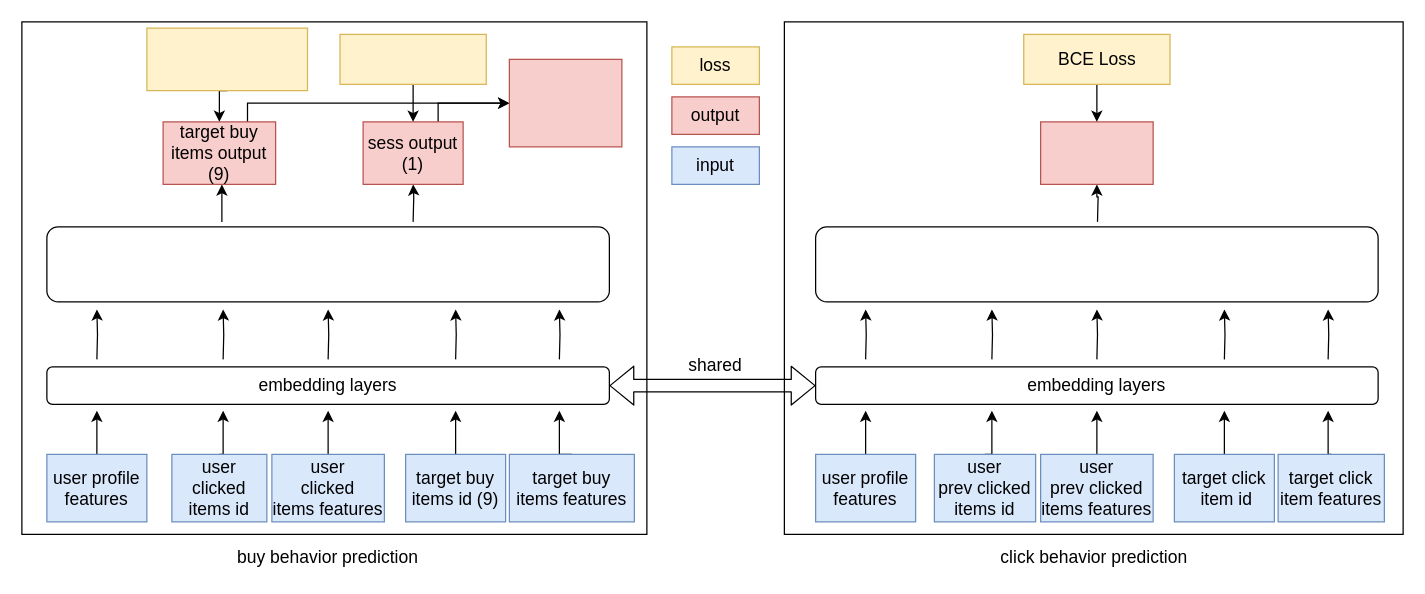
Image size: 1425x594. Some labels were removed from this diagram. The shapes that lost their labels are listed below. From the top down, each one's box as (x1, y1, x2, y2) in pixels, then its label:
(146, 27, 308, 91): BCE Loss (9) (Sess-Aware Loss Reweighting)
(339, 33, 486, 84): CE Loss
(508, 58, 622, 147): refined target buy items output (9)
(1039, 121, 1153, 184): target click item output (1)
(46, 226, 609, 302): buy behavior prediction backbone (transformer)
(814, 226, 1378, 302): click behavior prediction backbone (transformer)
